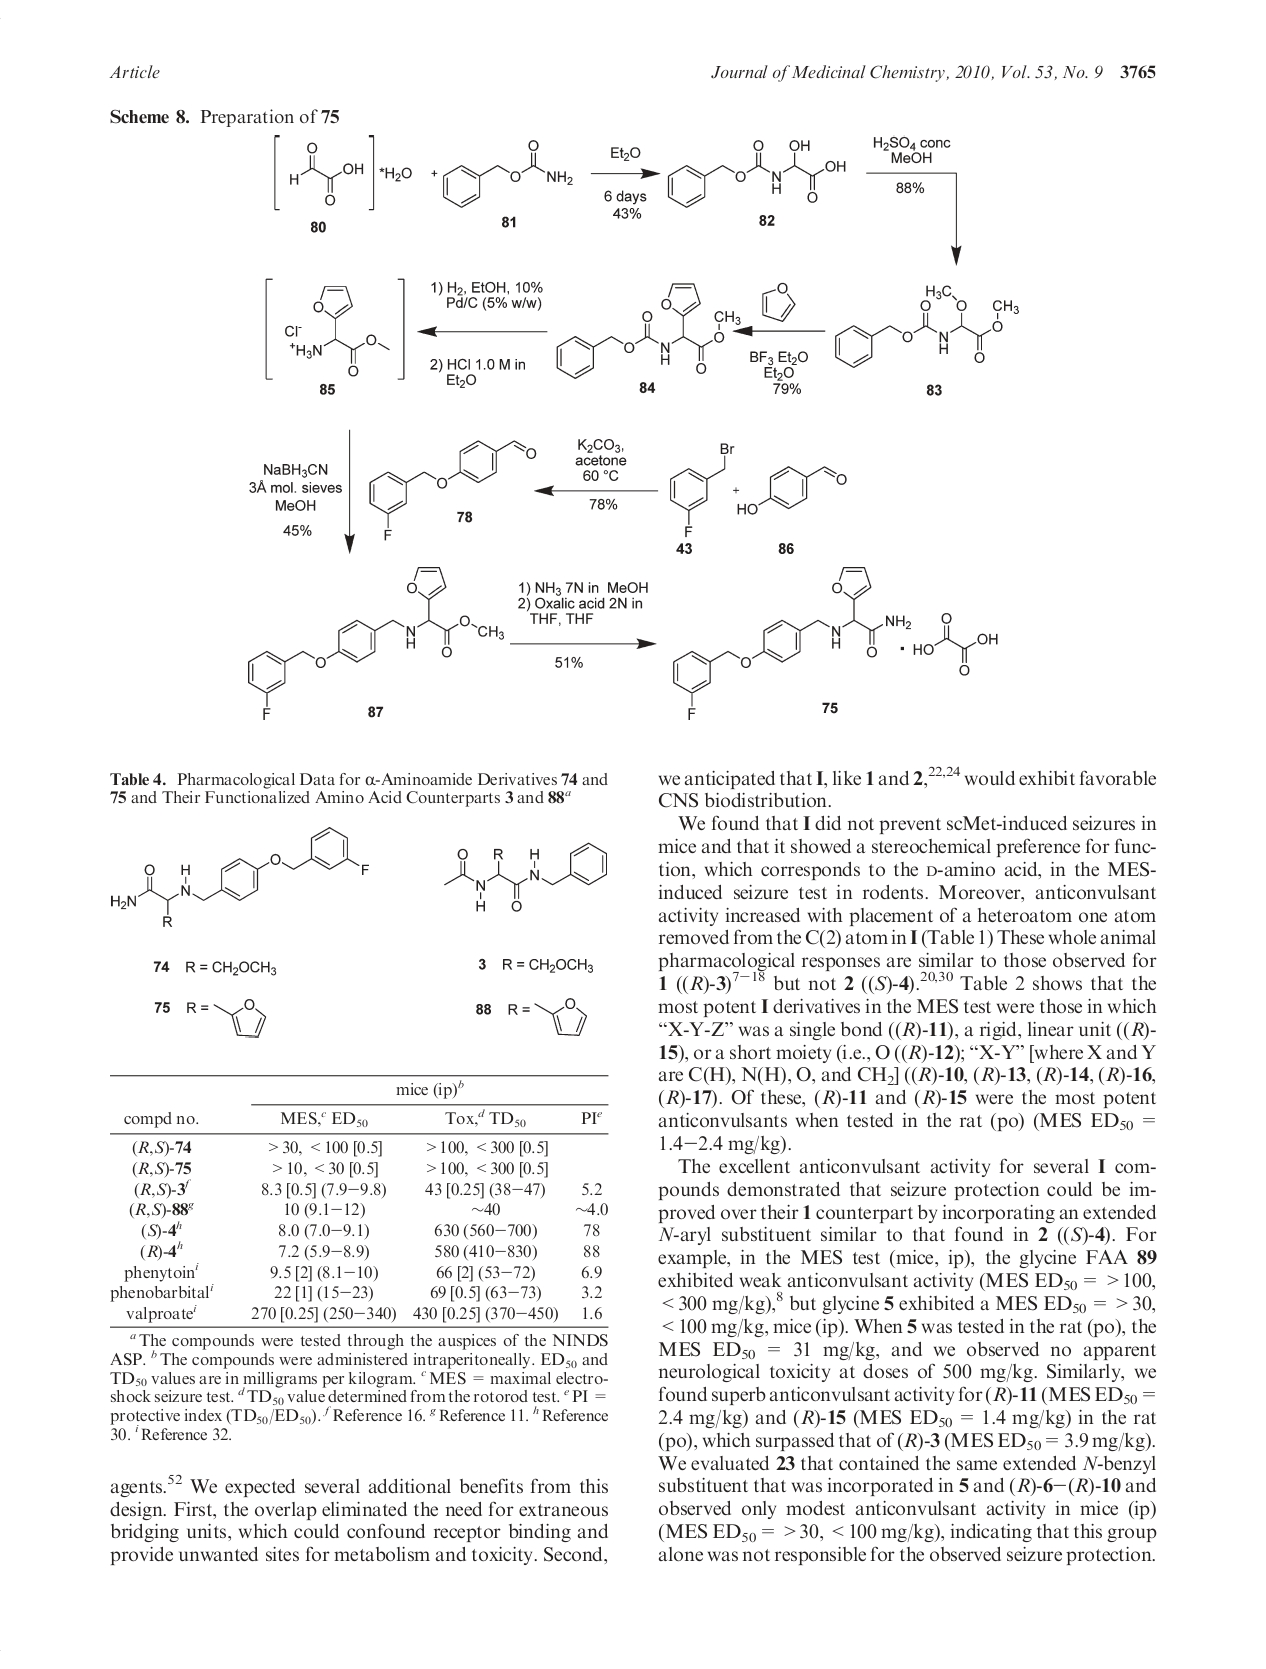exist_molecular: (672, 560, 1000, 723), (247, 563, 508, 723), (102, 830, 374, 928), (555, 278, 745, 384), (363, 430, 543, 539), (442, 825, 629, 919), (832, 279, 1023, 372), (666, 134, 854, 219), (279, 278, 394, 380), (430, 140, 578, 213), (666, 439, 743, 539), (731, 460, 850, 523), (287, 140, 368, 209), (529, 984, 600, 1043), (211, 993, 273, 1043), (750, 278, 799, 327)
